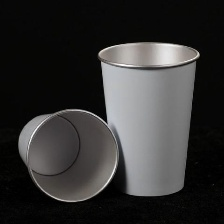paper_cup: (93, 38, 203, 202), (8, 104, 123, 205)
